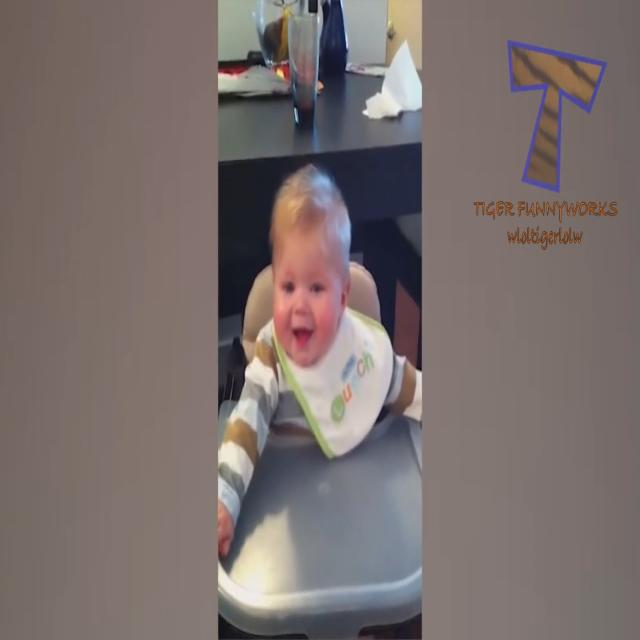safe: (270, 153, 356, 441)
